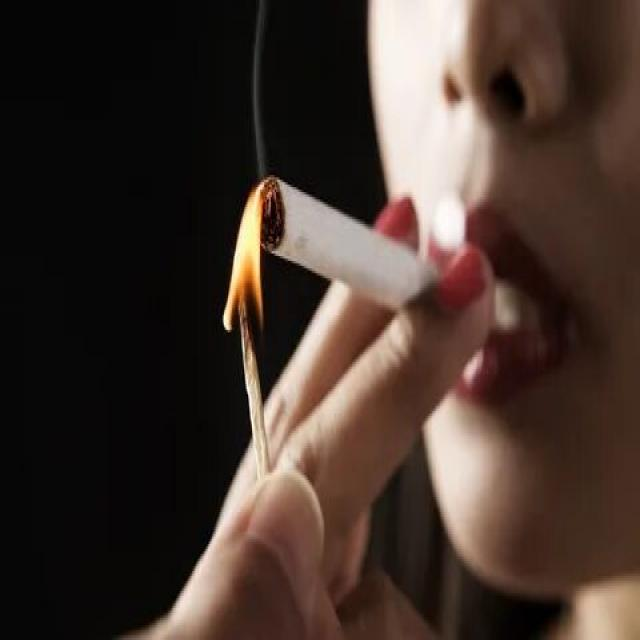cigarette: (250, 160, 450, 327)
